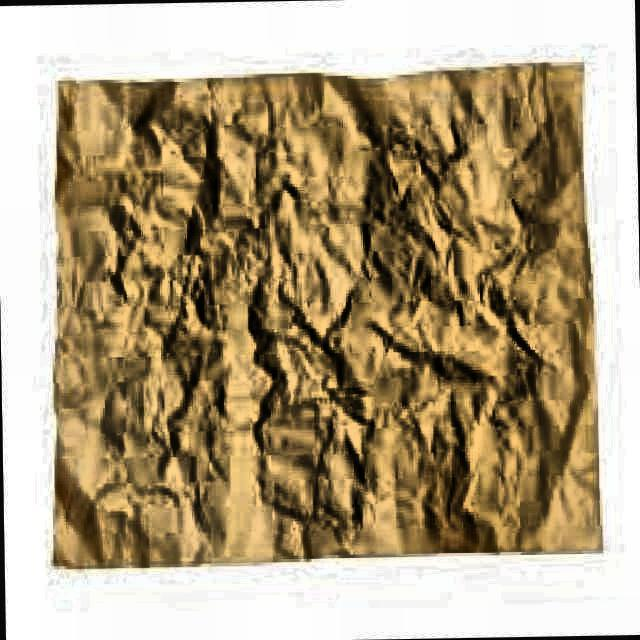cardboard: (49, 61, 608, 575)
